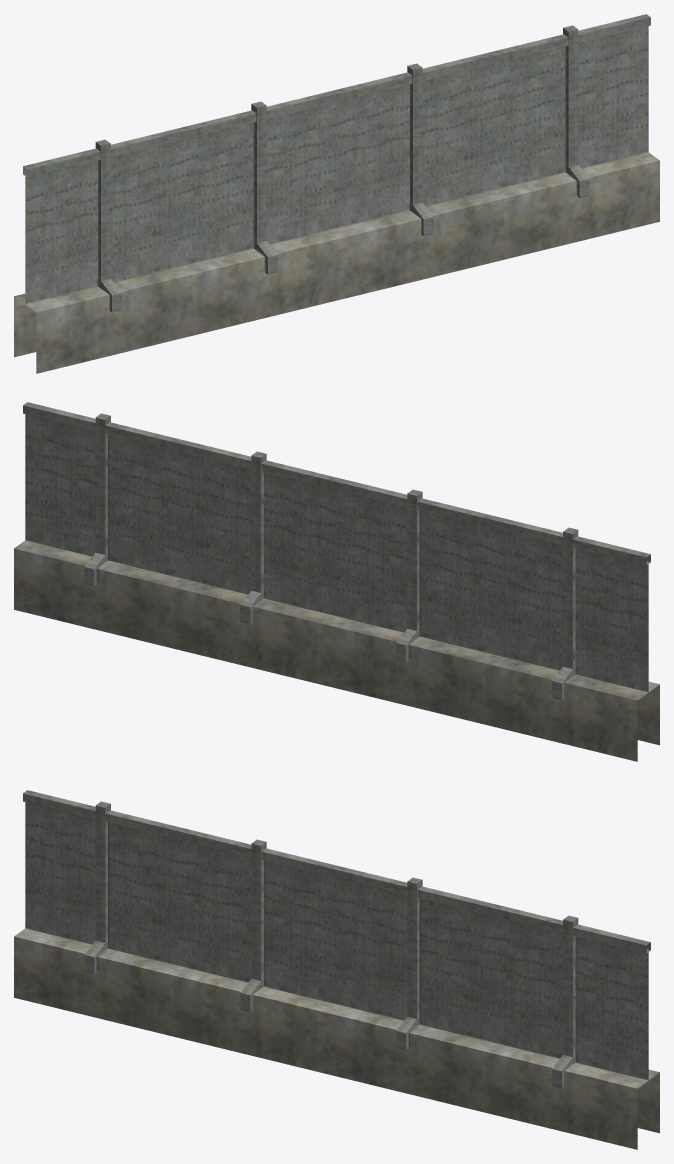
The model's file is thm_corl_imprv_wall_4x16_s03_l1.fbx.
3 views of the same model, one above another, from view 1: azimuth 30°, elevation 25°; view 2: azimuth 150°, elevation 25°; view 3: azimuth 330°, elevation 25° (orthographic).
Visible parts, largest first — view 1: mesh_node; view 2: mesh_node; view 3: mesh_node.
Part boxes in pixels (left/top/right/bottom): mesh_node: left=14, top=14, right=659, bottom=373; mesh_node: left=14, top=402, right=659, bottom=761; mesh_node: left=14, top=790, right=659, bottom=1149.
Bounding box in the file's own units: 16 × 5 × 1.22.
Materials: 2 (2 with a texture image).
